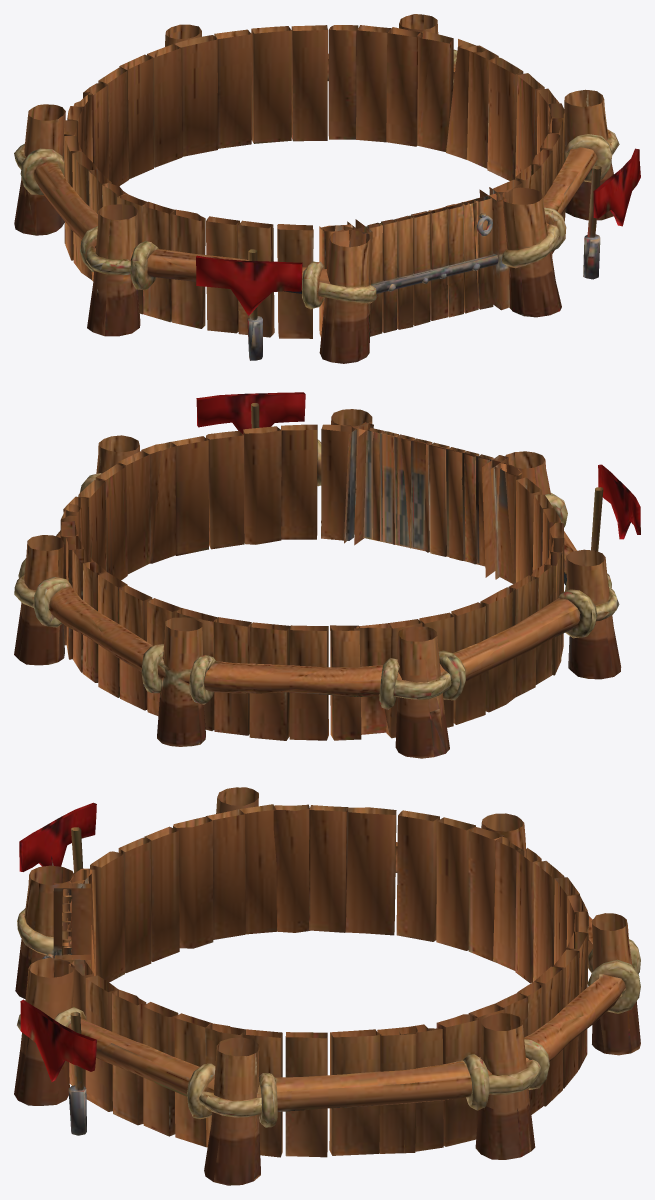
The model's file is cuartel_e1.glb.
3 views of the same model, one above another, from view 1: azimuth 30°, elevation 25°; view 2: azimuth 150°, elevation 25°; view 3: azimuth 270°, elevation 25° (orthographic). The views are drawn at different scales.
Size of the model in its own units: 7.76 by 1.57 by 7.26.
1 material, 1 textured.
